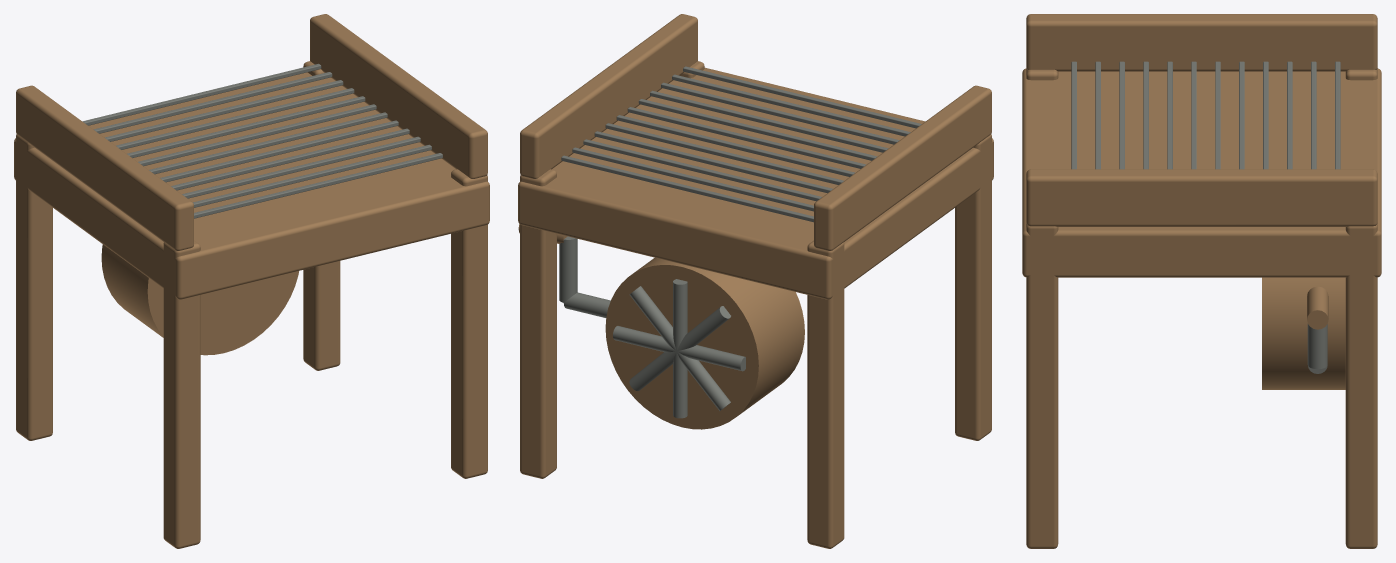
Rendered from hand-cranked-grain-clea.glb.
3 renders of one model, left to right at view 1: azimuth 30°, elevation 25°; view 2: azimuth 150°, elevation 25°; view 3: azimuth 270°, elevation 25°, orthographic. The views are drawn at different scales.
Parts seen in each view (by area): view 1: hand-cranked-grain-cleaner; view 2: hand-cranked-grain-cleaner; view 3: hand-cranked-grain-cleaner.
Part boxes in pixels (box(x1,y1,x2,y2)): hand-cranked-grain-cleaner: box(14, 14, 489, 548); hand-cranked-grain-cleaner: box(518, 14, 993, 548); hand-cranked-grain-cleaner: box(1022, 14, 1381, 548).
Size of the model in its own units: 1.05 by 1.03 by 0.9.
